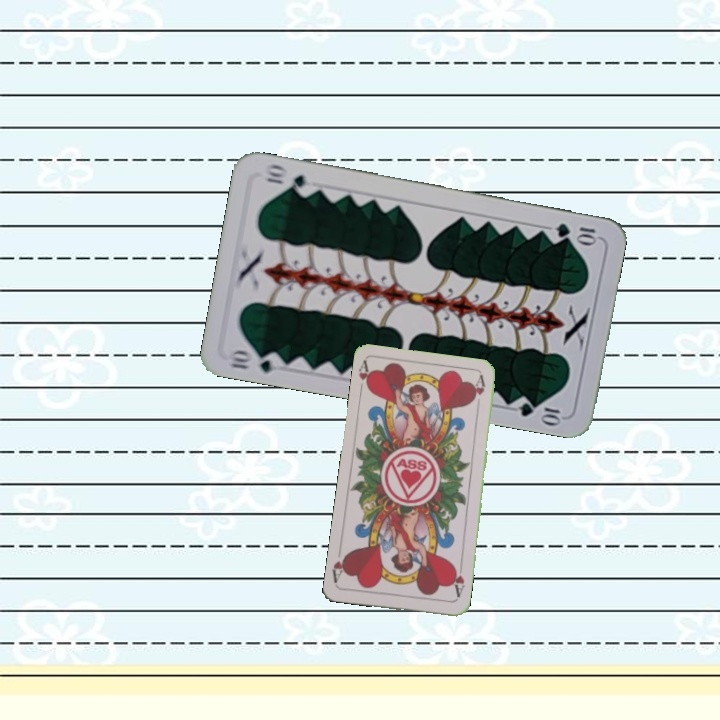G10: (224, 346, 285, 375), (552, 219, 601, 245)
HA: (355, 358, 375, 399), (448, 561, 467, 602)
